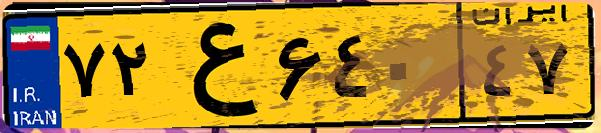0: (385, 28, 445, 110)
2: (110, 28, 158, 98)
4: (330, 28, 385, 110), (475, 38, 525, 113)
6: (270, 28, 330, 110)
7: (57, 26, 110, 100), (525, 38, 570, 115)
ع: (158, 12, 270, 120)
